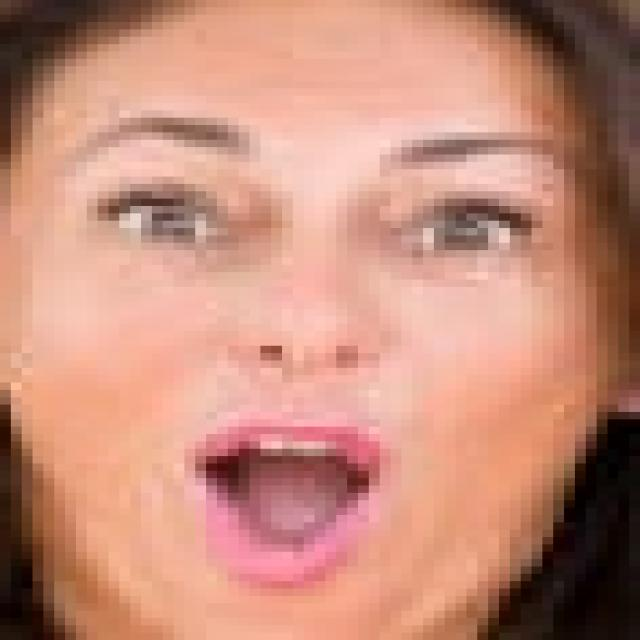Anxiety: (11, 0, 630, 633)
